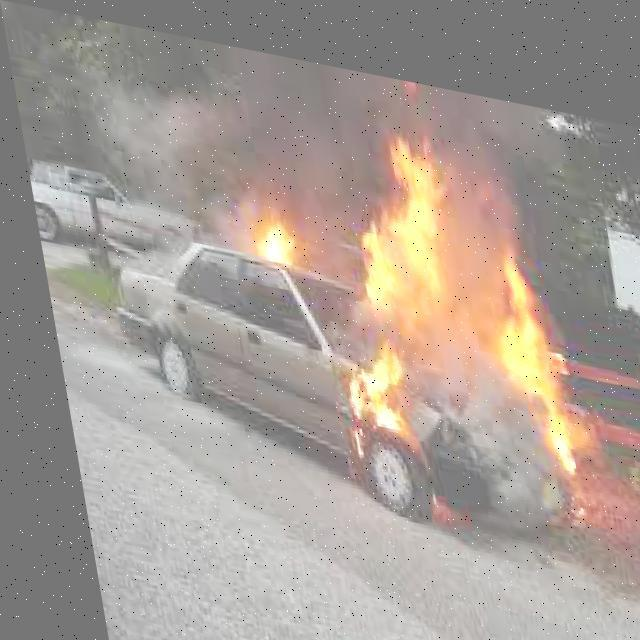Fire: (323, 100, 593, 452), (222, 194, 292, 262)
